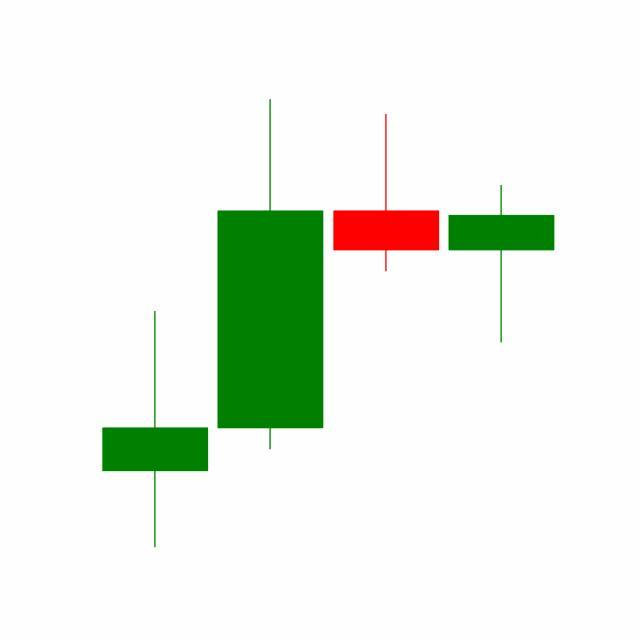Hammer: (444, 183, 560, 346)
